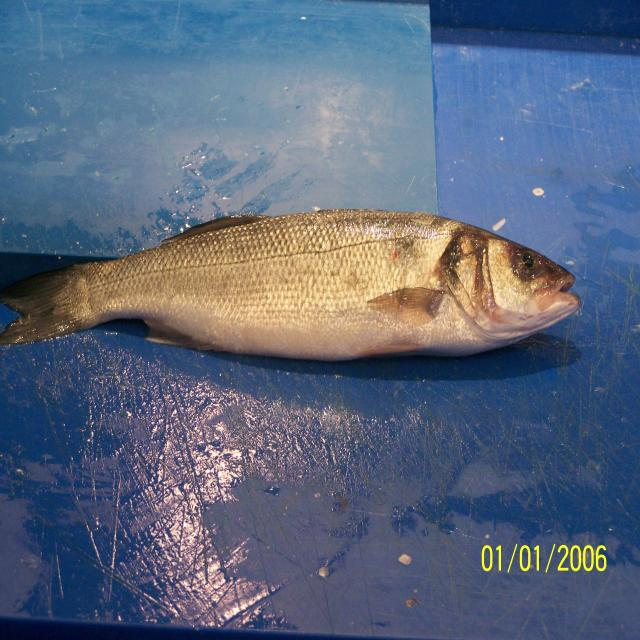Sea-Bass-levrek-: (0, 209, 581, 364)
